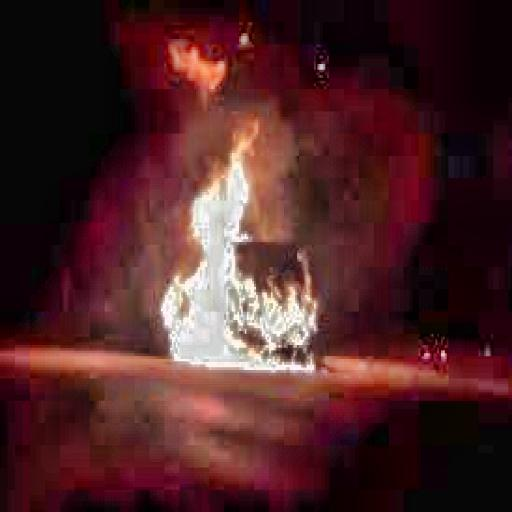fire: (157, 120, 331, 376), (157, 33, 243, 106)
